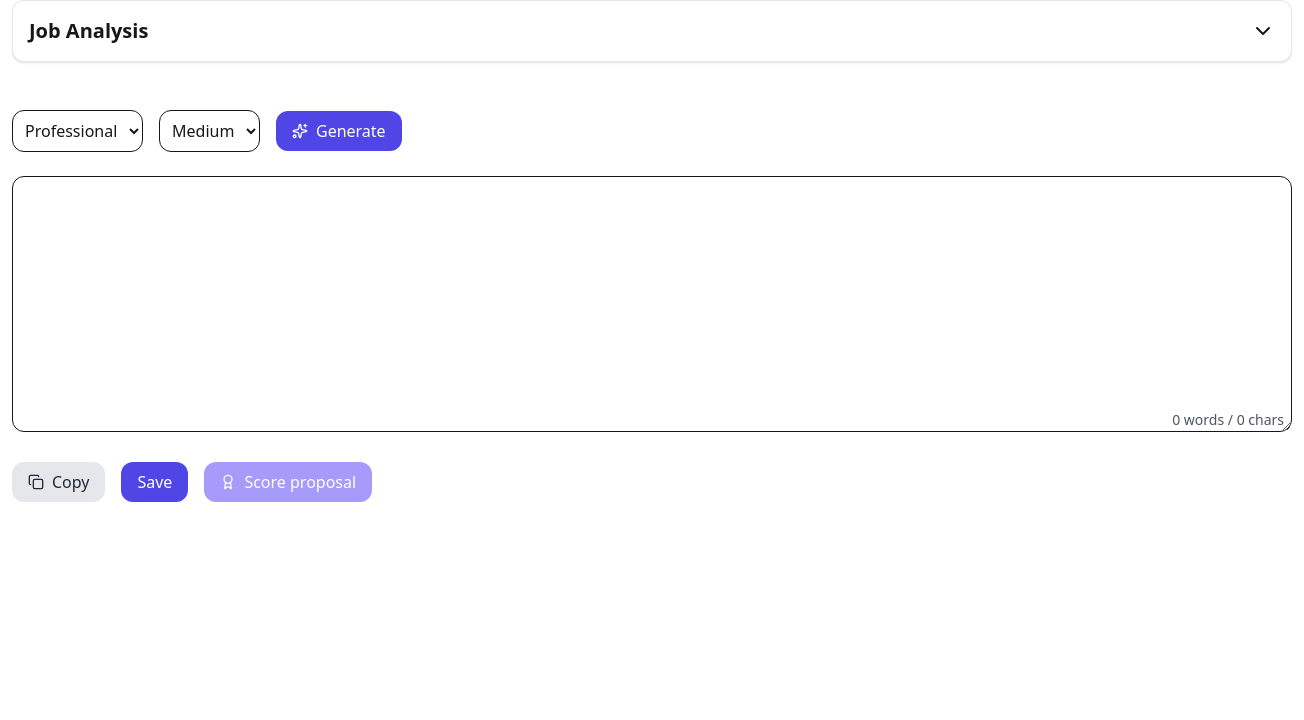
Scenario: ProposalEditor – spinner while generating › shows Stop button with spinner when generating
What coordinates should you click on to do the following:
click the button "Generate"
I would click on:
 (339, 131)
Its box is [276, 111, 402, 151].
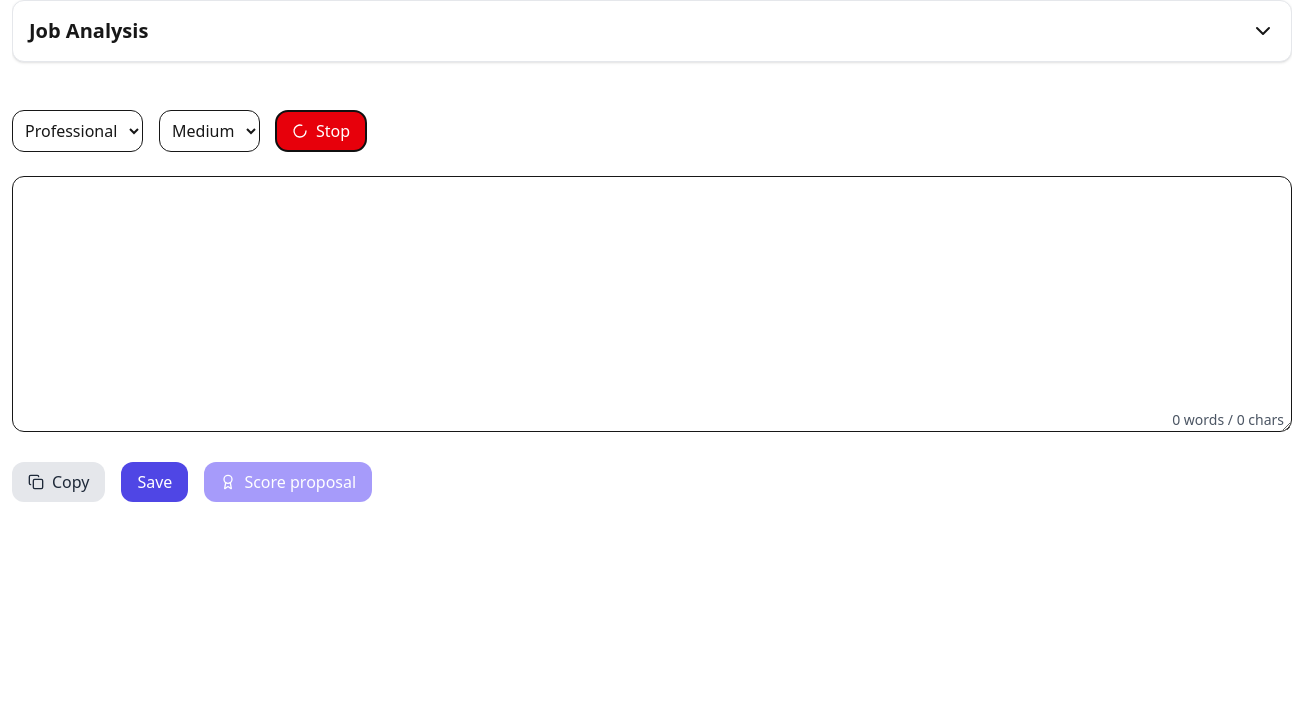
Now the button "Stop" is shown, box [276, 111, 366, 151]
